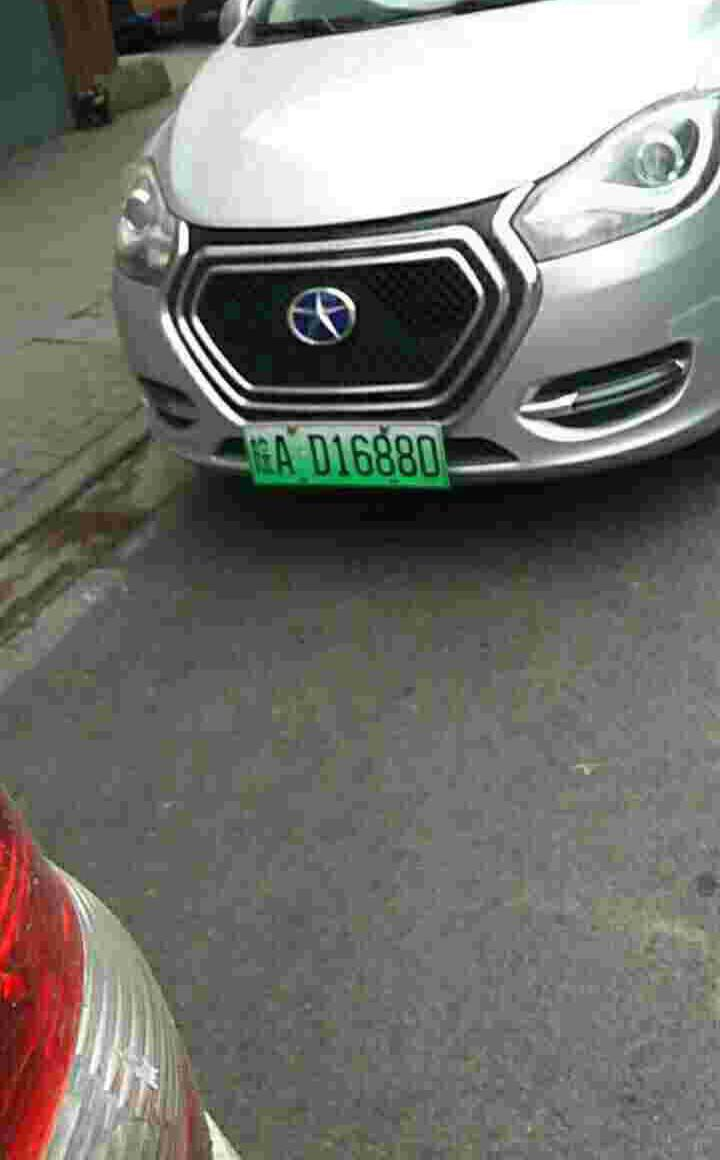car: (241, 428, 451, 493)
